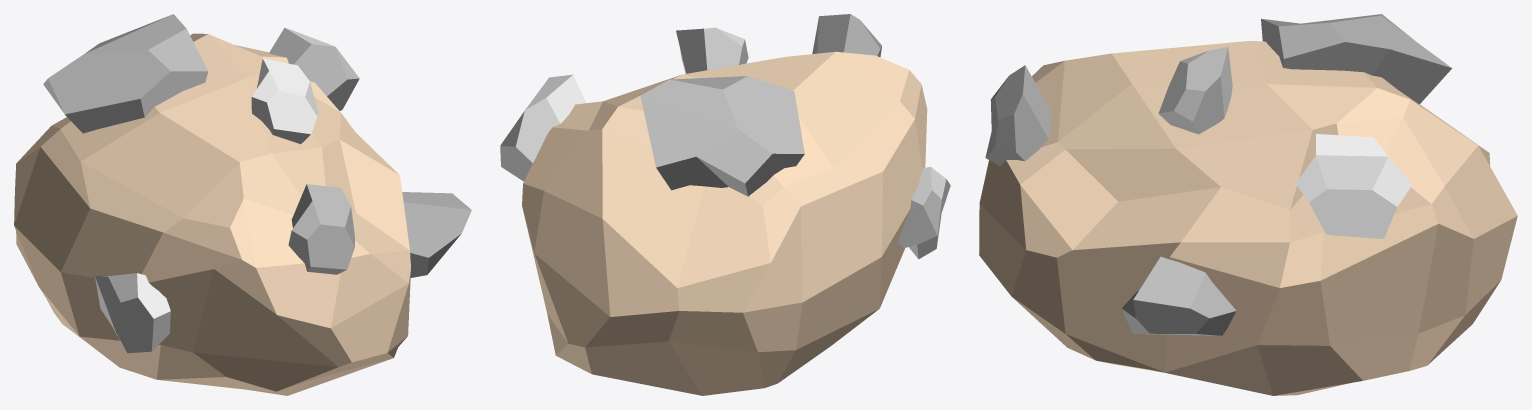
Rendered from MineralNode_05_B.fbx.
The picture shows the model from 3 angles, left to right: view 1: azimuth 30°, elevation 25°; view 2: azimuth 150°, elevation 25°; view 3: azimuth 270°, elevation 25°; orthographic projection. The views are drawn at different scales.
Parts seen in each view (by area): view 1: MineralNode_05_B; view 2: MineralNode_05_B; view 3: MineralNode_05_B.
Part boxes in pixels (x1=…): MineralNode_05_B: x1=14, y1=14, x2=471, y2=395; MineralNode_05_B: x1=500, y1=14, x2=950, y2=395; MineralNode_05_B: x1=979, y1=14, x2=1517, y2=395.
Size of the model in its own units: 85.56 by 66.36 by 103.
